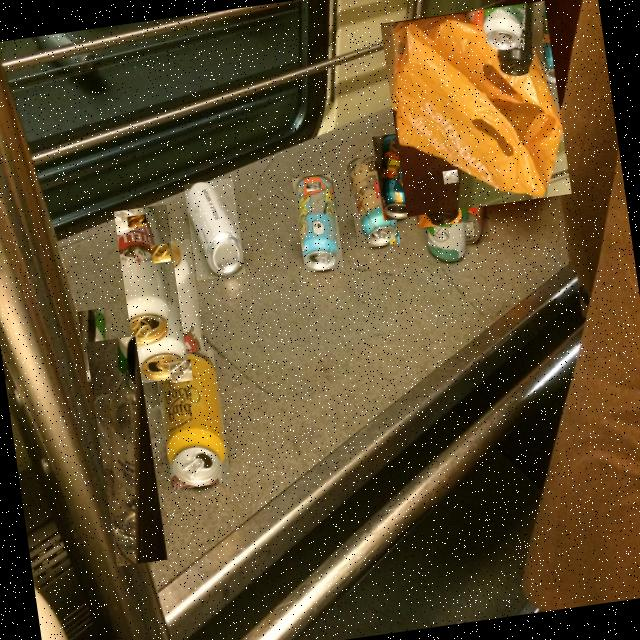Clear plastic bottle: (111, 336, 137, 564)
Drink can: (135, 243, 207, 381), (133, 207, 186, 380), (161, 352, 226, 487), (187, 183, 243, 276), (349, 157, 398, 246), (409, 145, 460, 226), (299, 176, 340, 270), (428, 169, 469, 261), (382, 133, 417, 219), (87, 308, 106, 382), (466, 192, 485, 245)
Pop tab: (171, 360, 191, 382), (153, 245, 170, 262), (130, 215, 146, 227), (444, 171, 459, 183), (369, 161, 381, 171), (466, 222, 474, 235), (307, 183, 321, 189)
Single-use carrier bag: (393, 15, 563, 198)
